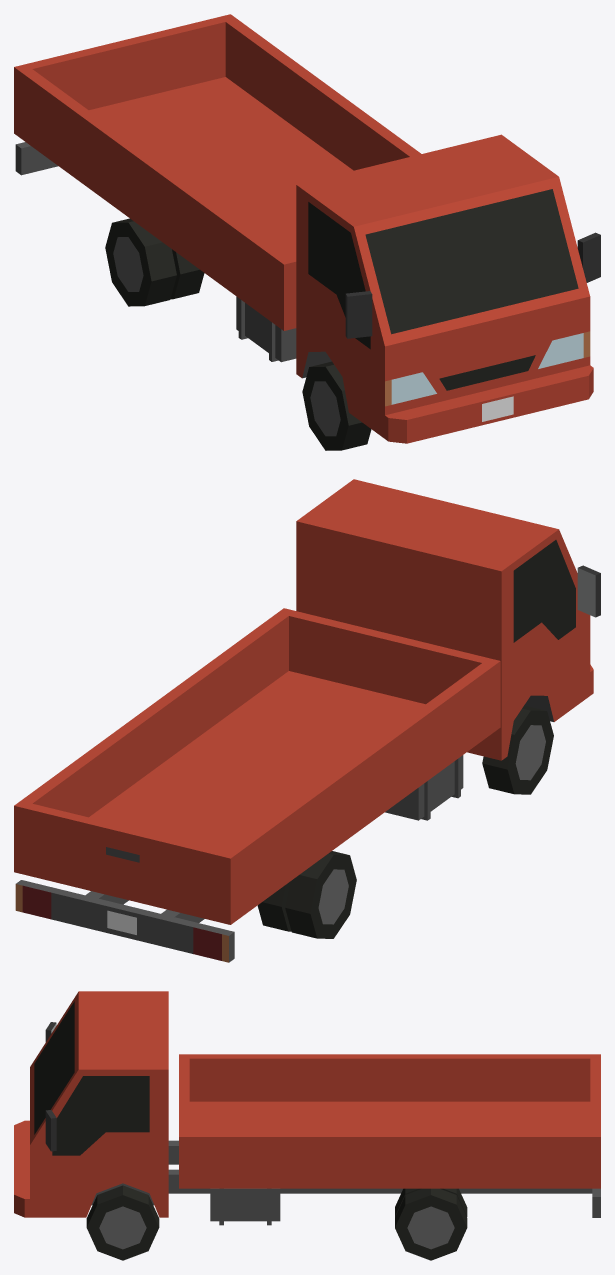
Rendered from Veh_Truck_02_Flat_Red.glb.
3 renders of one model, top to bottom at view 1: azimuth 30°, elevation 25°; view 2: azimuth 150°, elevation 25°; view 3: azimuth 270°, elevation 25°, orthographic. The views are drawn at different scales.
Parts seen in each view (by area): view 1: Truck_02_Flat_Red, Wheel_RR, Wheel_FR; view 2: Truck_02_Flat_Red, Wheel_RR, Wheel_FR; view 3: Truck_02_Flat_Red, Wheel_RL, Wheel_FL.
Boxes of the visible parts, left/top/right/bottom form: Truck_02_Flat_Red: left=14, top=14, right=600, bottom=443; Wheel_RR: left=105, top=218, right=204, bottom=306; Wheel_FR: left=302, top=361, right=371, bottom=450; Truck_02_Flat_Red: left=14, top=479, right=600, bottom=962; Wheel_RR: left=257, top=851, right=356, bottom=938; Wheel_FR: left=482, top=705, right=553, bottom=794; Truck_02_Flat_Red: left=14, top=991, right=600, bottom=1225; Wheel_RL: left=395, top=1188, right=467, bottom=1260; Wheel_FL: left=86, top=1185, right=159, bottom=1260.
Size of the model in its own units: 1.27 by 1.17 by 3.26.
Materials: 1 (1 with a texture image).
